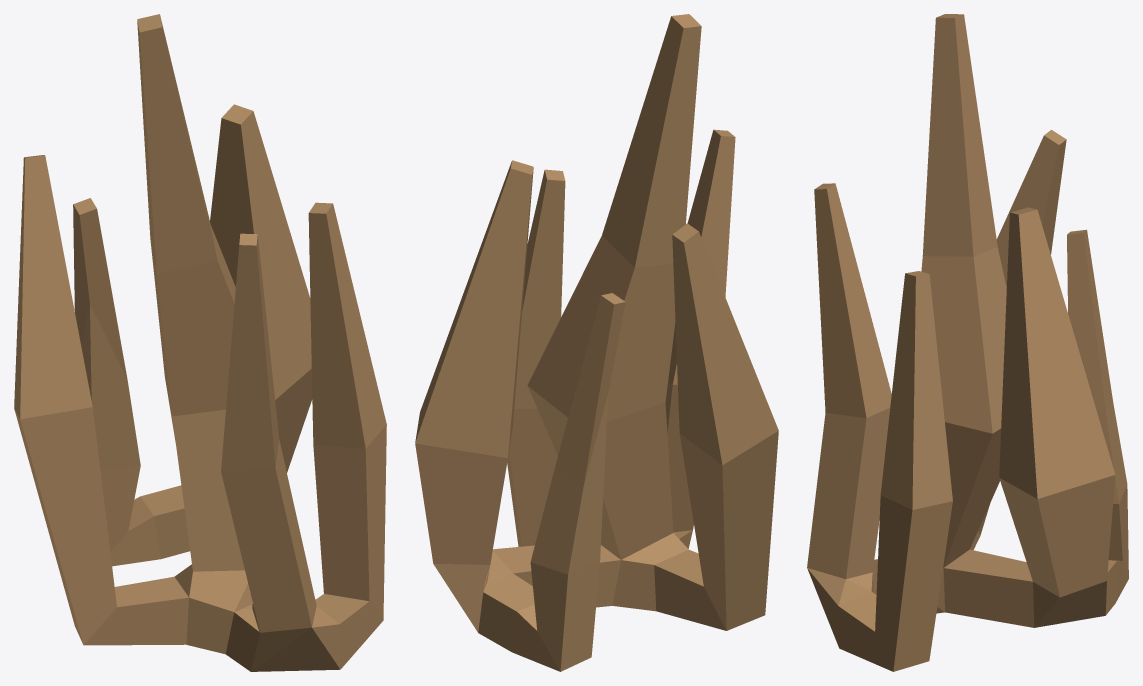
File: biome-rock02.fbx
3 renders of one model, left to right at view 1: azimuth 30°, elevation 25°; view 2: azimuth 150°, elevation 25°; view 3: azimuth 270°, elevation 25°, orthographic. The views are drawn at different scales.
Parts seen in each view (by area): view 1: Plane; view 2: Plane; view 3: Plane.
Part boxes in pixels (box(x1,y1,x2,y2)): Plane: box(14, 14, 386, 671); Plane: box(415, 14, 778, 671); Plane: box(807, 14, 1128, 671).
Size of the model in its own units: 65.13 by 117 by 59.16.
